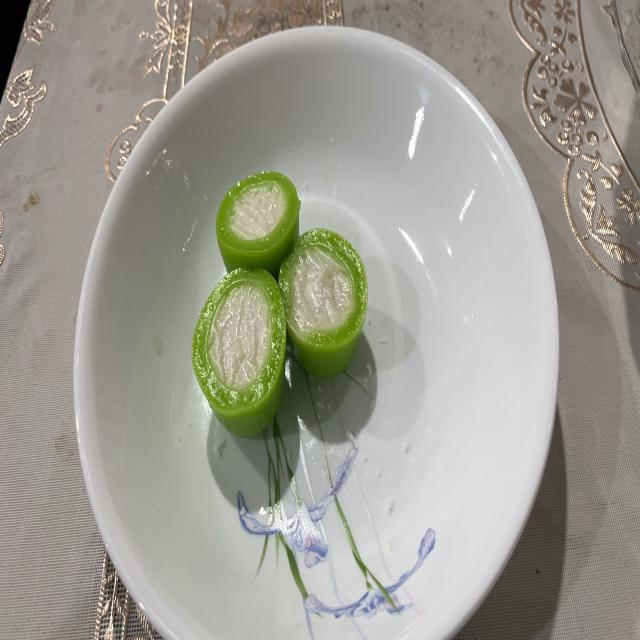nona-manis: (192, 269, 286, 438), (279, 229, 368, 376), (216, 171, 300, 278)
